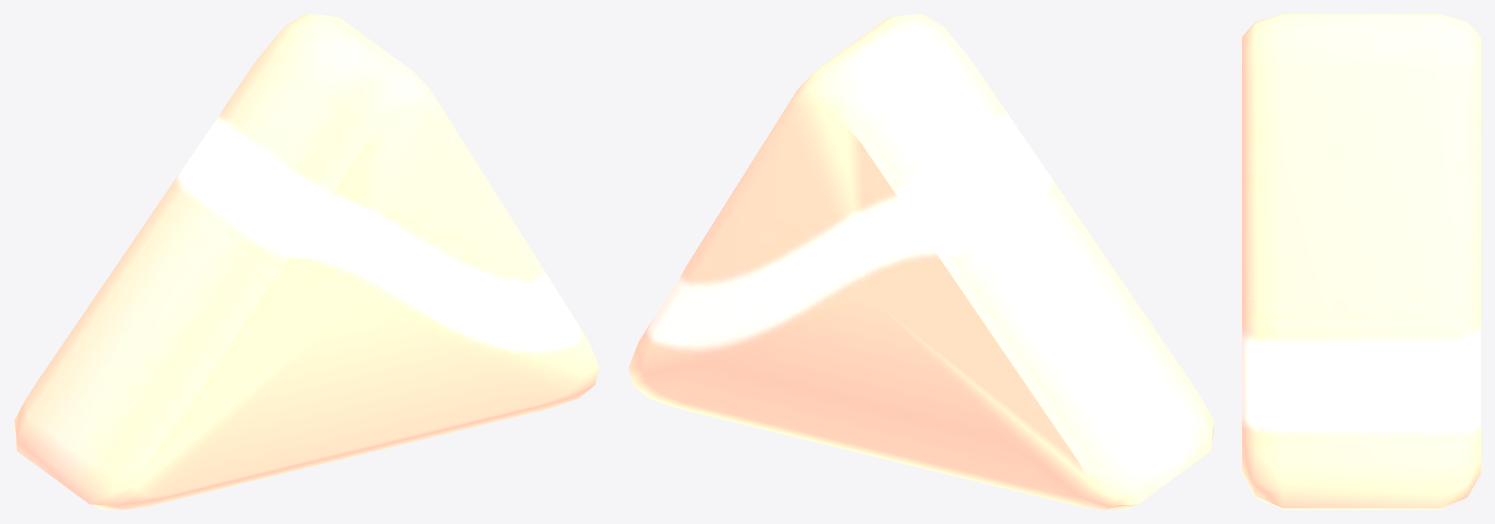
3 views of the same model, side by side, from view 1: azimuth 30°, elevation 25°; view 2: azimuth 150°, elevation 25°; view 3: azimuth 270°, elevation 25° (orthographic). The views are drawn at different scales.
Parts seen in each view (by area): view 1: glow_Frosted_pumpkin_candy; view 2: glow_Frosted_pumpkin_candy; view 3: glow_Frosted_pumpkin_candy.
Part boxes in pixels (left/top/right/bottom): glow_Frosted_pumpkin_candy: left=14, top=14, right=599, bottom=509; glow_Frosted_pumpkin_candy: left=628, top=14, right=1213, bottom=509; glow_Frosted_pumpkin_candy: left=1242, top=14, right=1480, bottom=509.
Bounding box in the file's own units: 0.9206 × 0.6475 × 0.35.
1 material, 1 textured.
